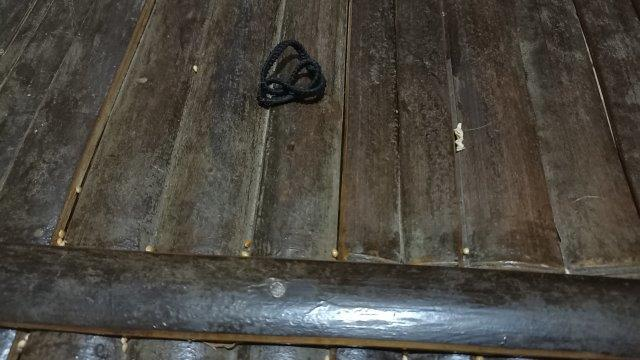karet: (257, 39, 326, 107)
